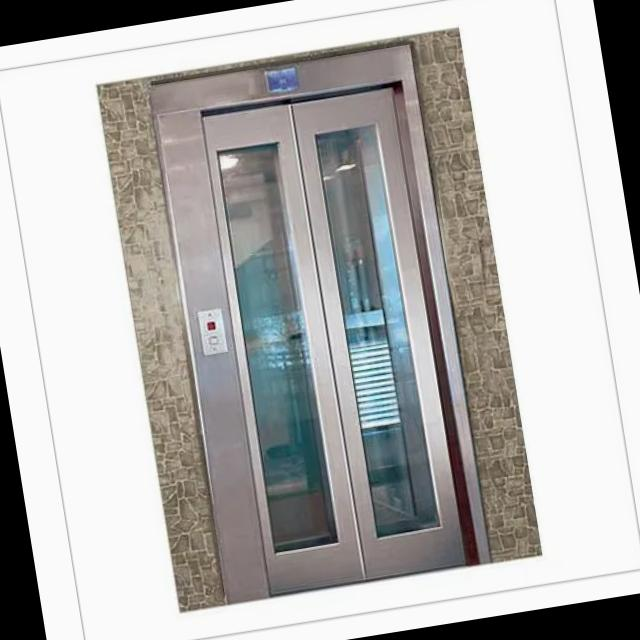elevator: (130, 33, 504, 608)
